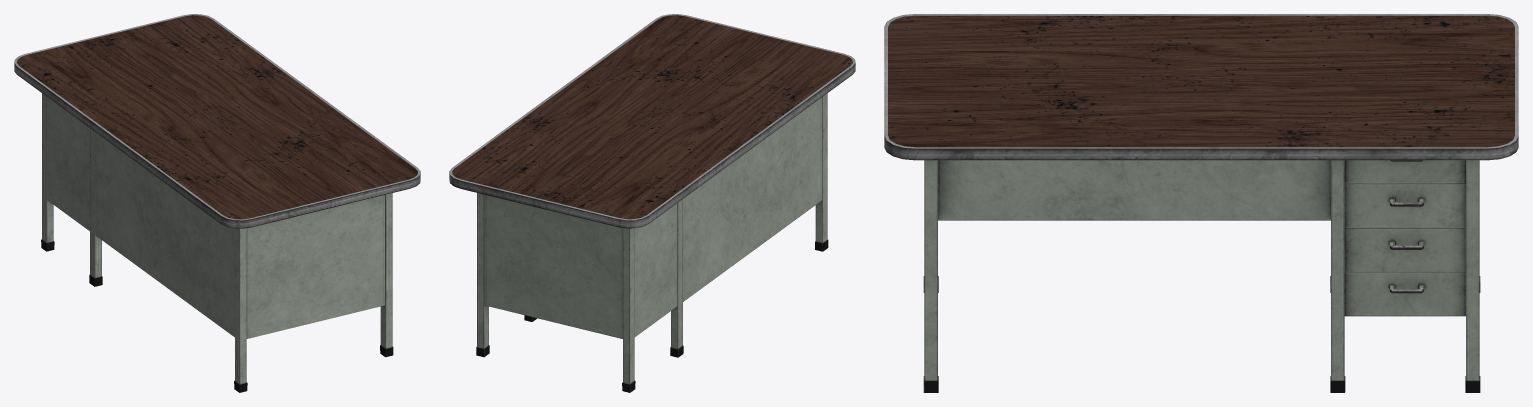
File: old_metal_table_low_poly.glb
3 views of the same model, side by side, from view 1: azimuth 30°, elevation 25°; view 2: azimuth 150°, elevation 25°; view 3: azimuth 270°, elevation 25° (orthographic). The views are drawn at different scales.
Visible parts, largest first — view 1: Cube.003; view 2: Cube.003; view 3: Cube.003.
Boxes of the visible parts, x1,y1,x2,y2 form: Cube.003: (14, 14, 420, 392); Cube.003: (449, 14, 855, 392); Cube.003: (884, 14, 1518, 392).
Bounding box in the file's own units: 1.01 × 0.9006 × 2.
1 material, 1 textured.
